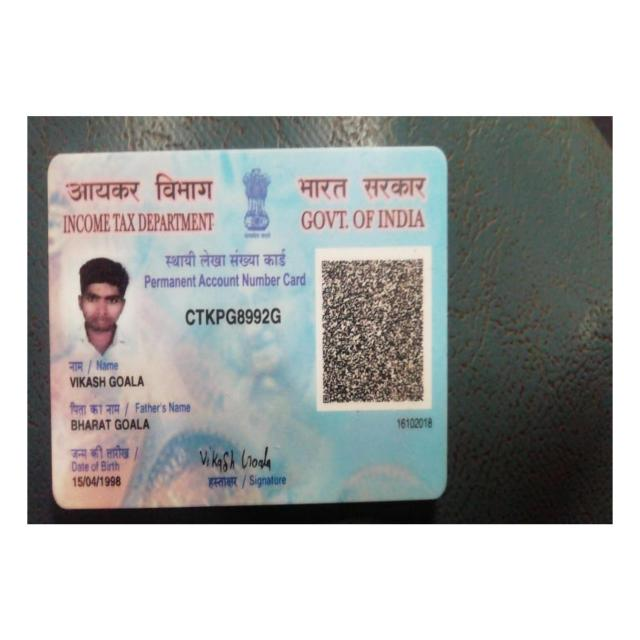pan_card: (49, 148, 445, 508)
